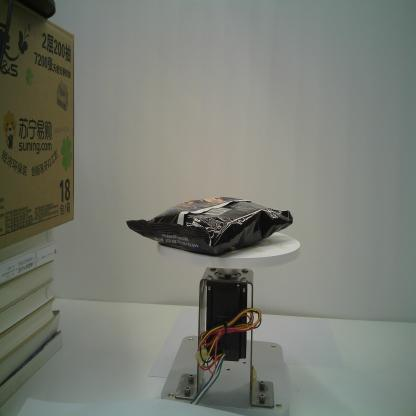Instant Noodles: (125, 195, 294, 257)
